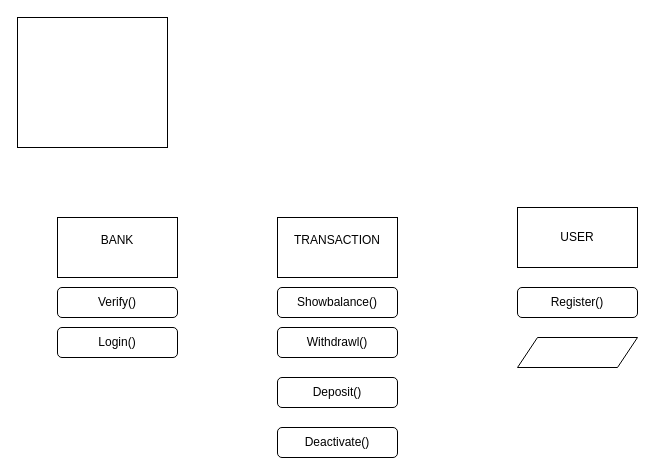
This 655x475 diagram has some shape labels left out. Each missing label, with the centre of its shape:
"Display user()" belongs at [577,352].
"Struct 1.A/C no 2.Name 3.Password 4.Balance 5.A/c type" belongs at [92,82].
